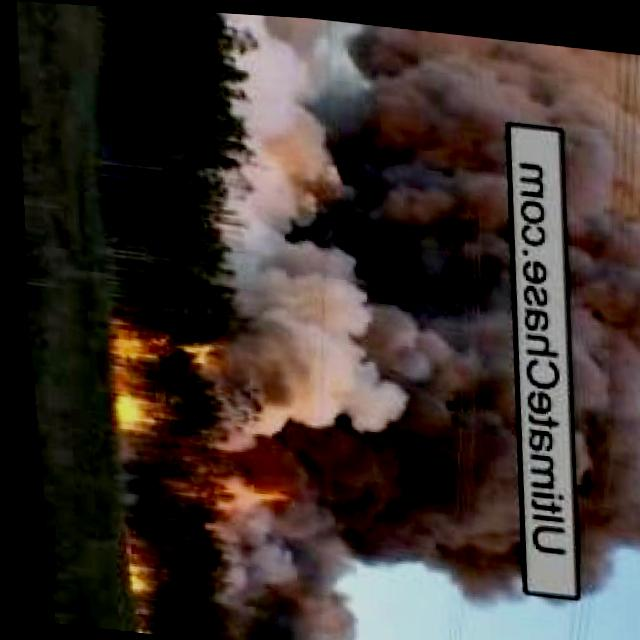Fire: (97, 319, 228, 440), (191, 469, 300, 512), (115, 552, 163, 590)
Smoke: (207, 10, 536, 498), (532, 37, 640, 598), (275, 478, 510, 640), (190, 506, 293, 640)
